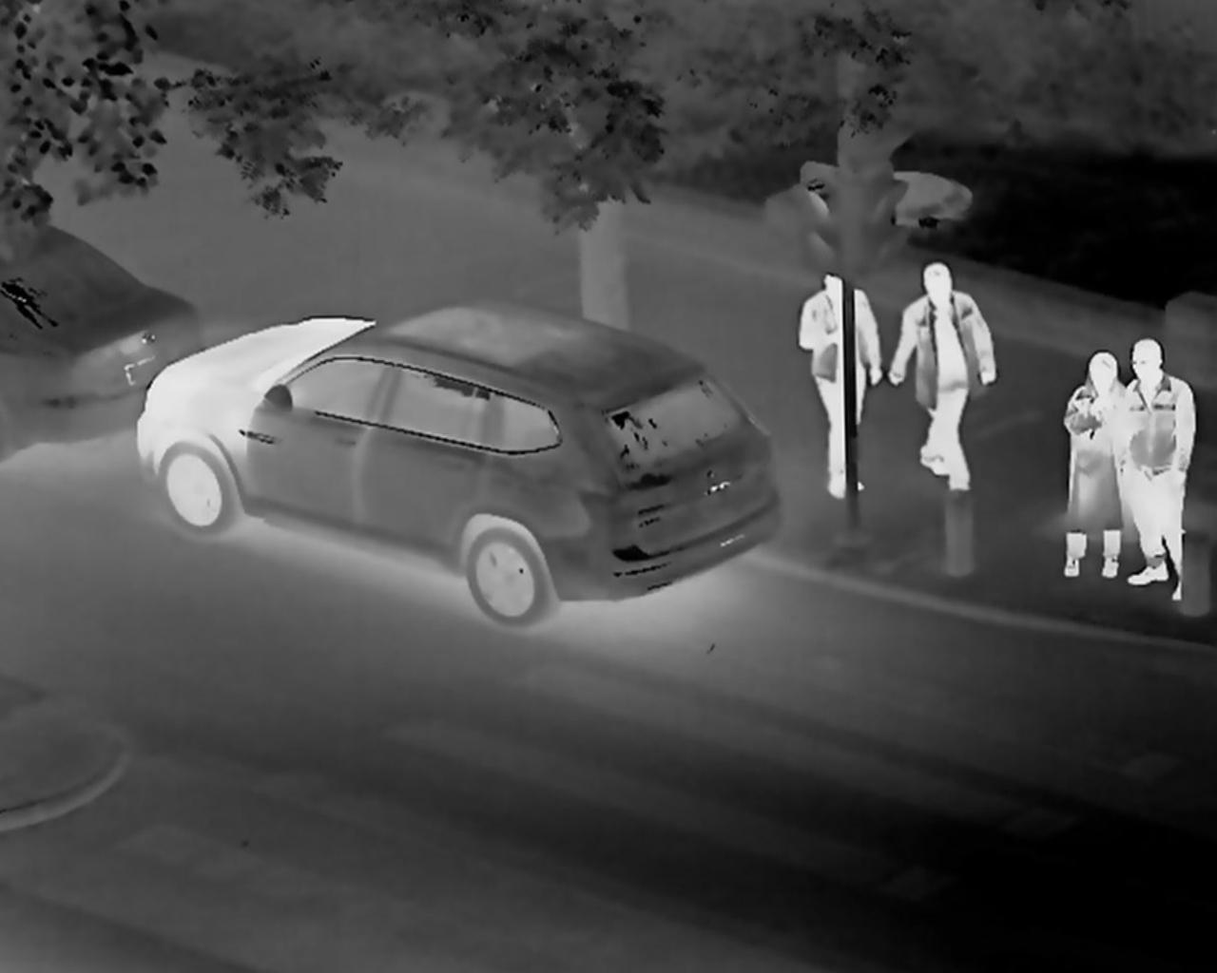person: (890, 260, 987, 483), (1124, 337, 1202, 596), (803, 277, 879, 523), (1065, 346, 1116, 589)
